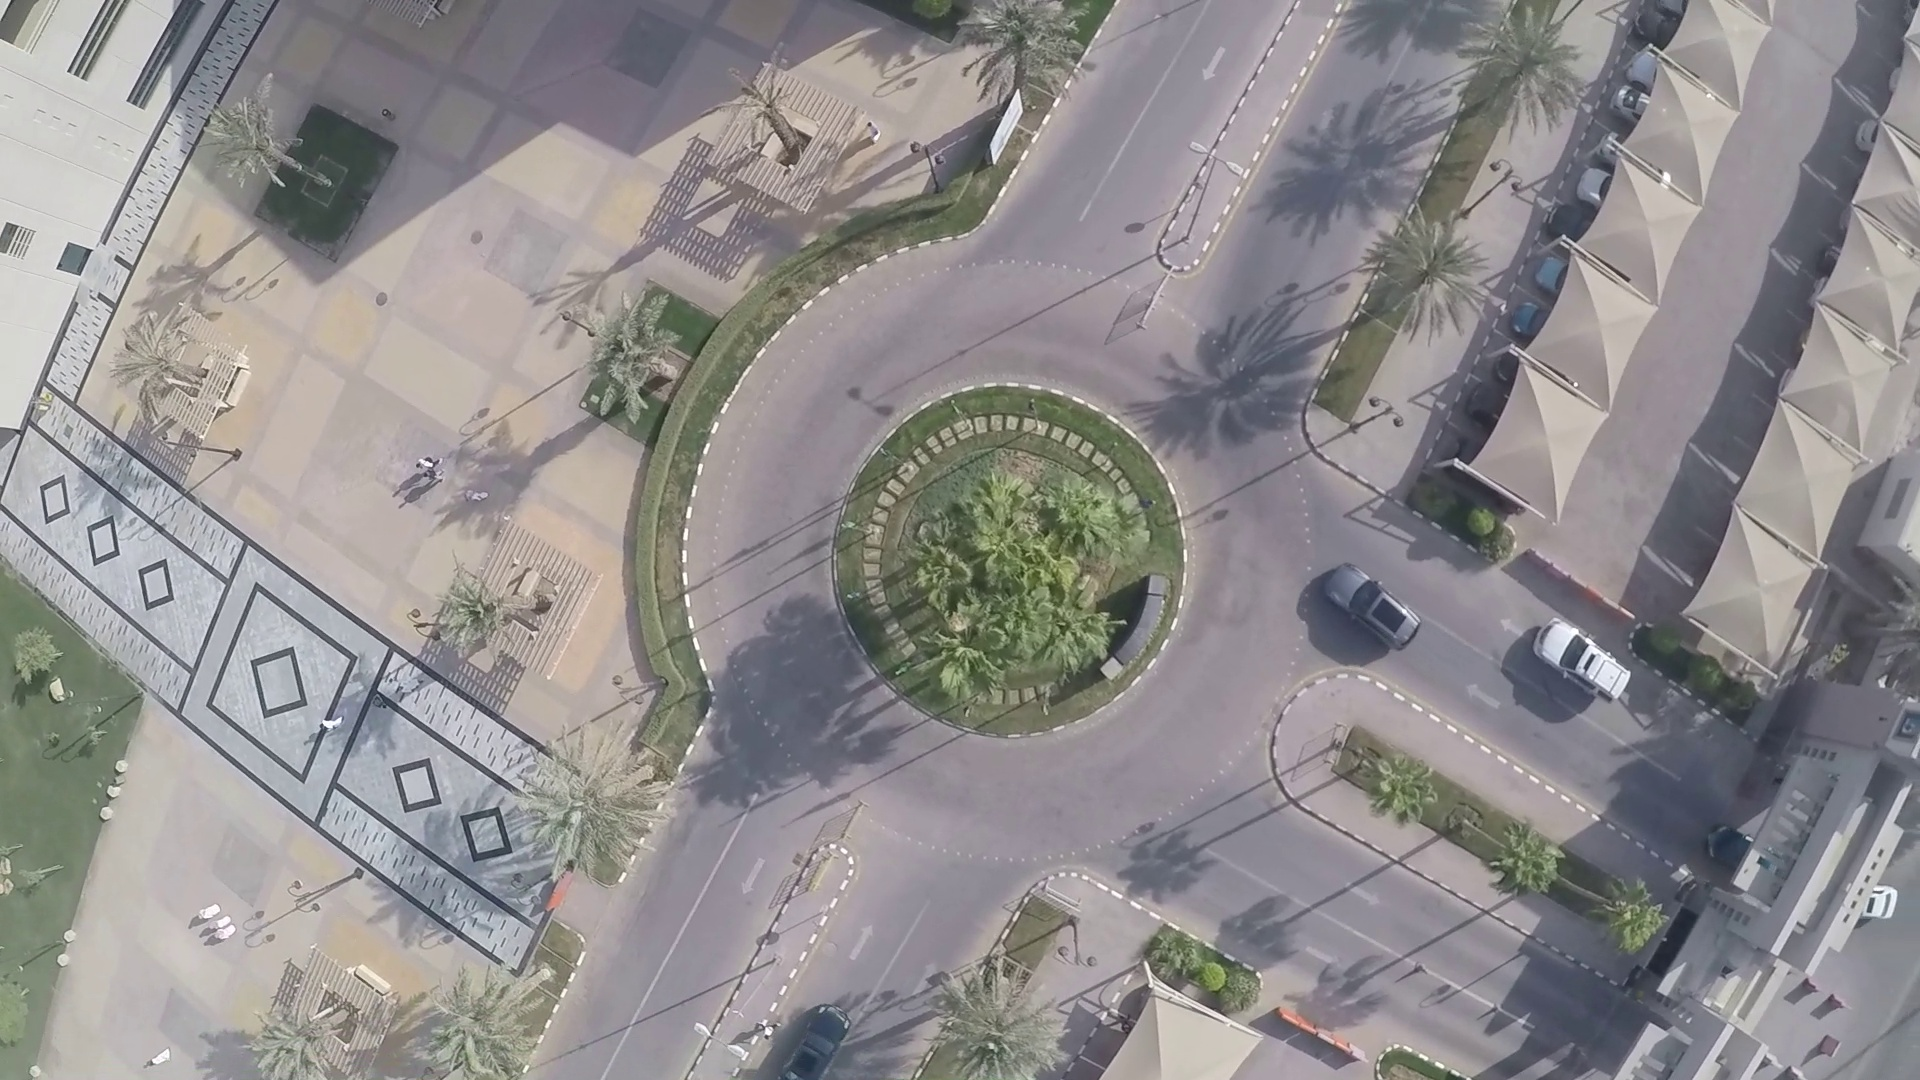car: (1316, 556, 1428, 651), (1539, 607, 1625, 711)
